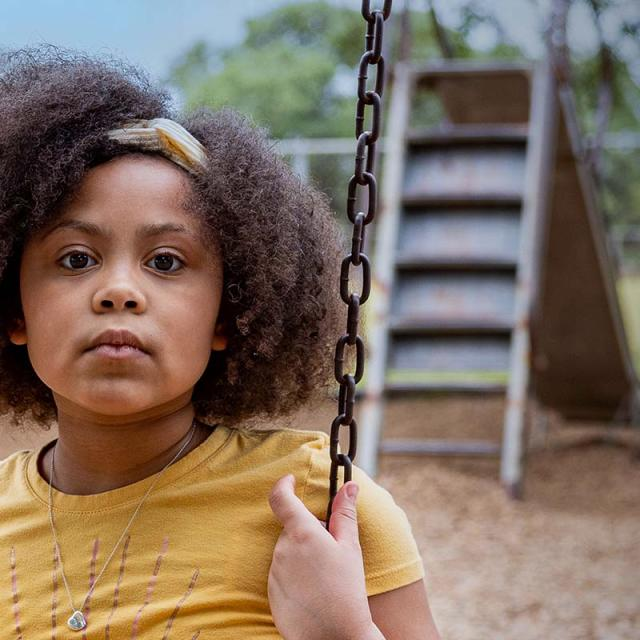child: (0, 64, 449, 640)
